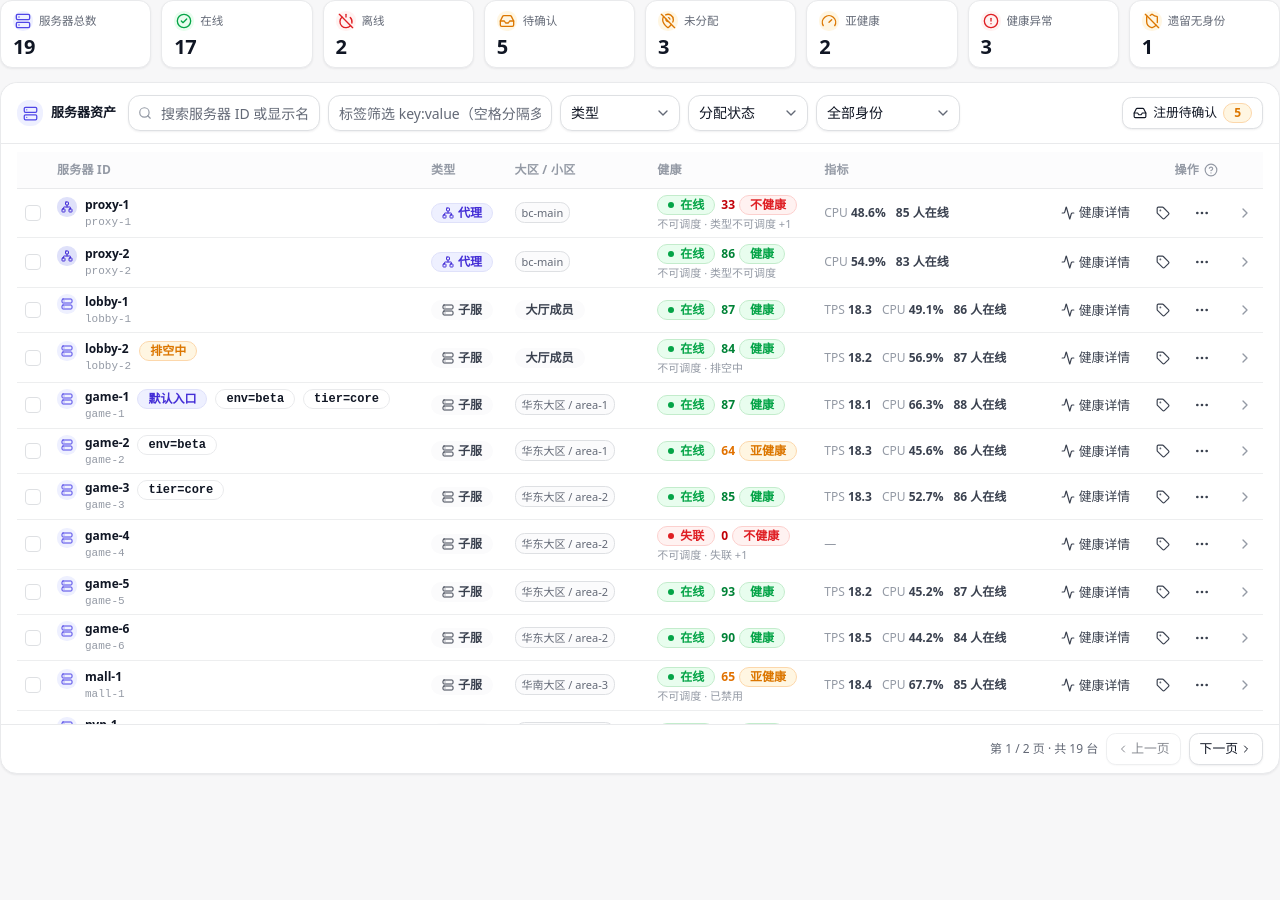
Scenario: /servers 服务器页 › 行操作切换默认入口：取消后该行徽标消失（FR-48/ADR-0067 写闭环）
This screenshot has width=1280, height=900.
Check: the text "默认入口" is shown, box x1=138 y1=389 x2=208 y2=409
# 打开行内操作菜单再点「取消默认入口」
Click the button named "更多操作" in the row of "默认入口" at (1202, 406), box x1=1185 y1=390 x2=1219 y2=422
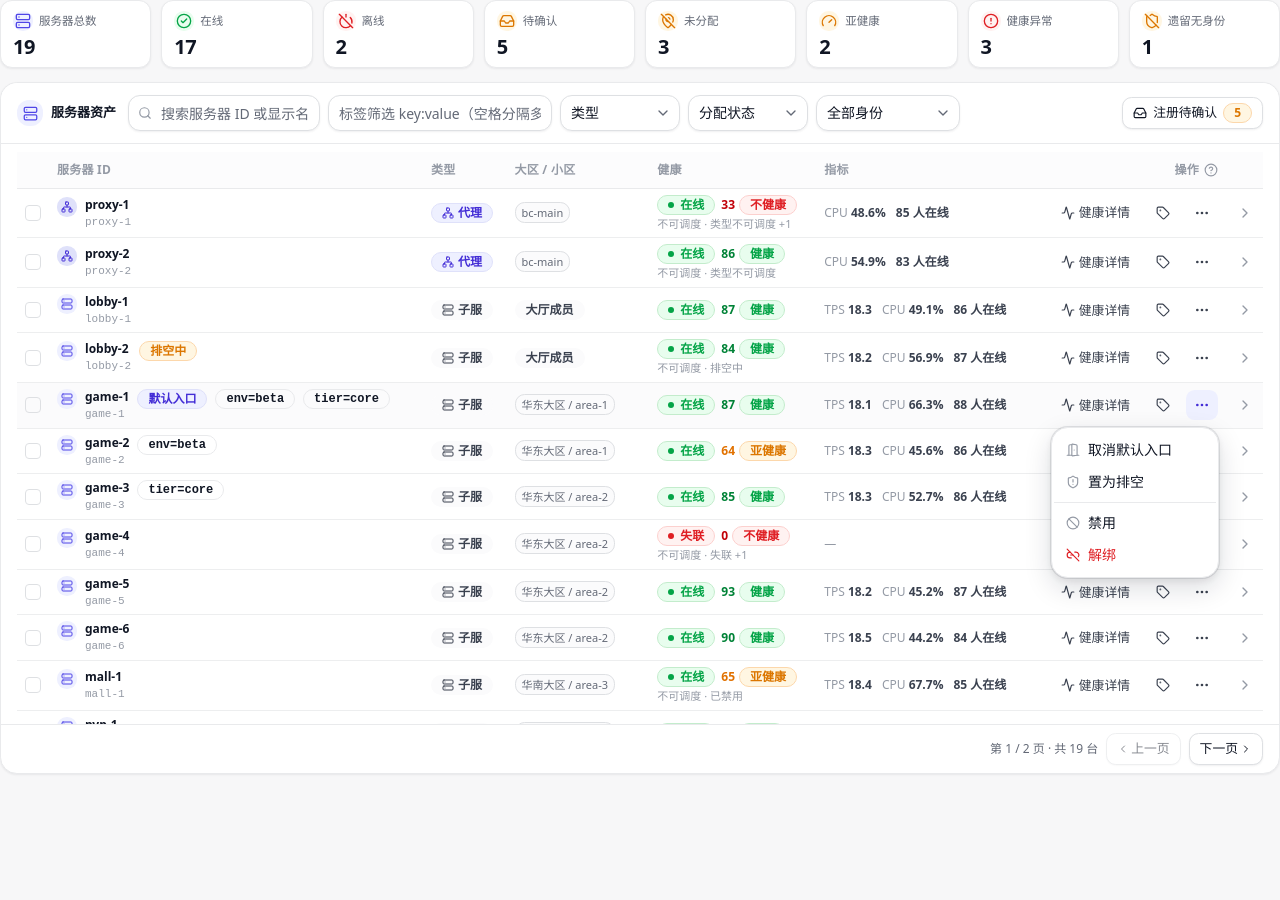
Click the menu item "取消默认入口" at (1119, 450), box x1=1066 y1=440 x2=1172 y2=459
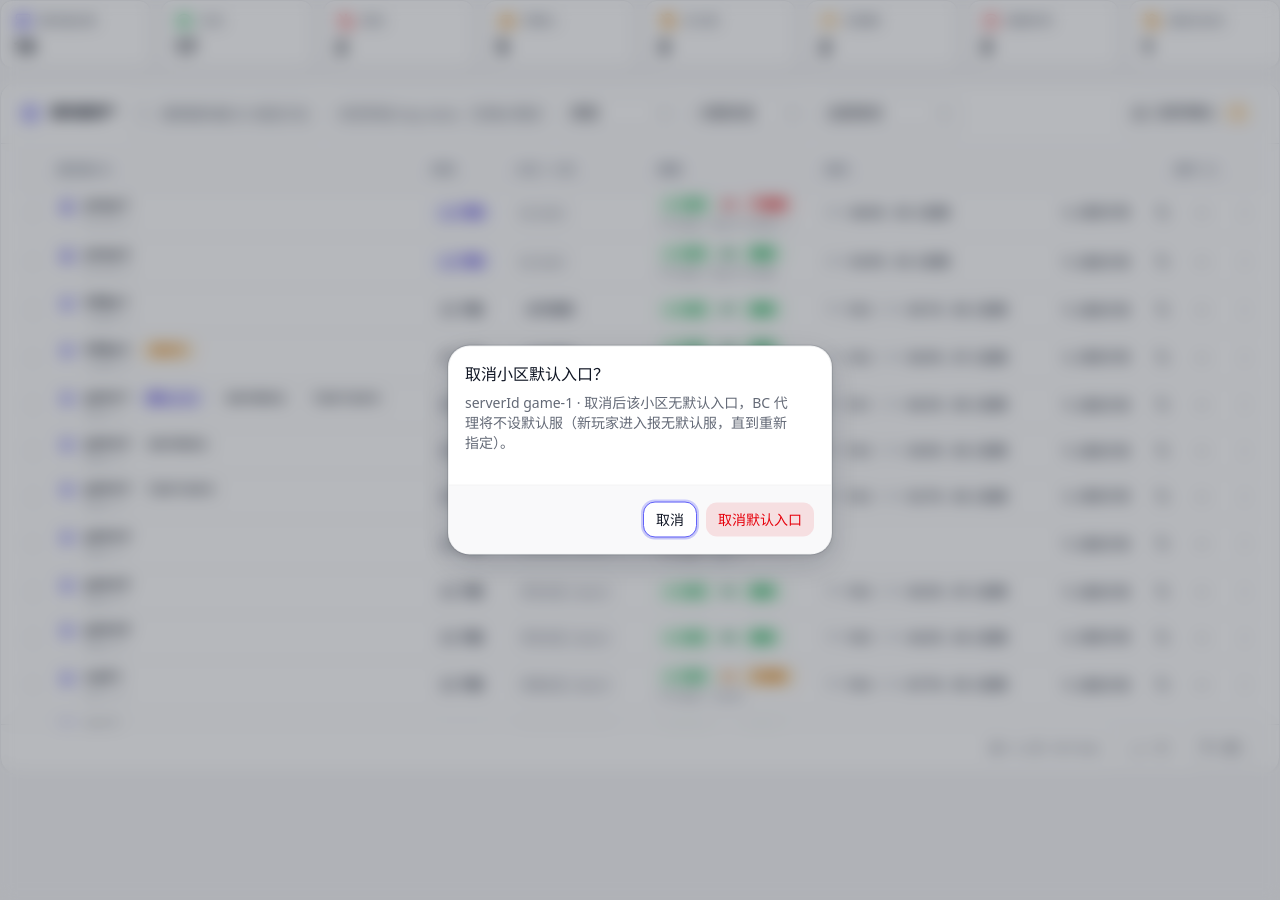
# 无原因确认框：确认后徽标消失、菜单项翻转
Click the button "取消默认入口" at (760, 520), box x1=705 y1=502 x2=815 y2=538
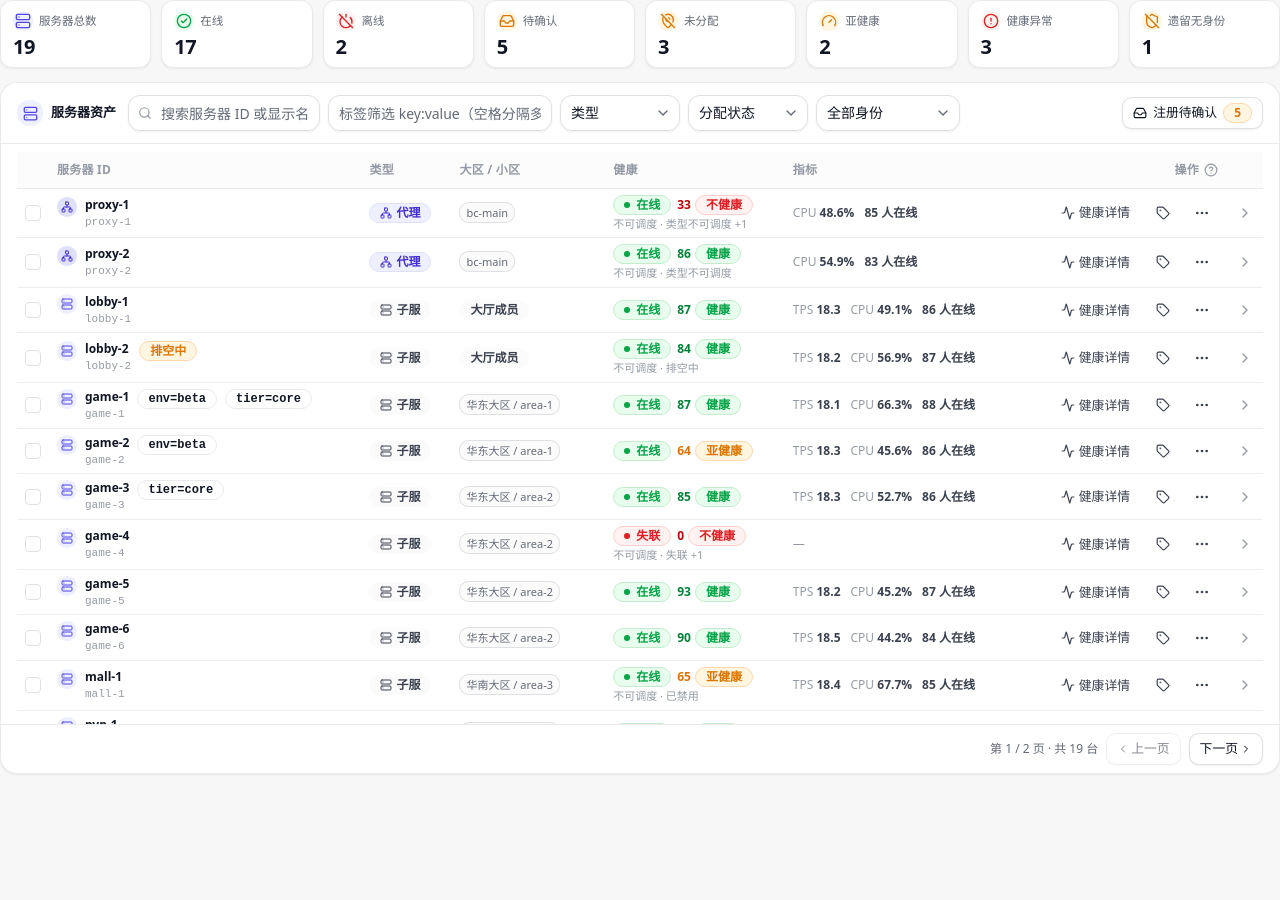
Check: the text "game-1" is shown, box x1=85 y1=388 x2=130 y2=405
Check: the text "默认入口" is gone
Click the button named "更多操作" in the row of "18.1" at (1202, 406), box x1=1185 y1=390 x2=1219 y2=422
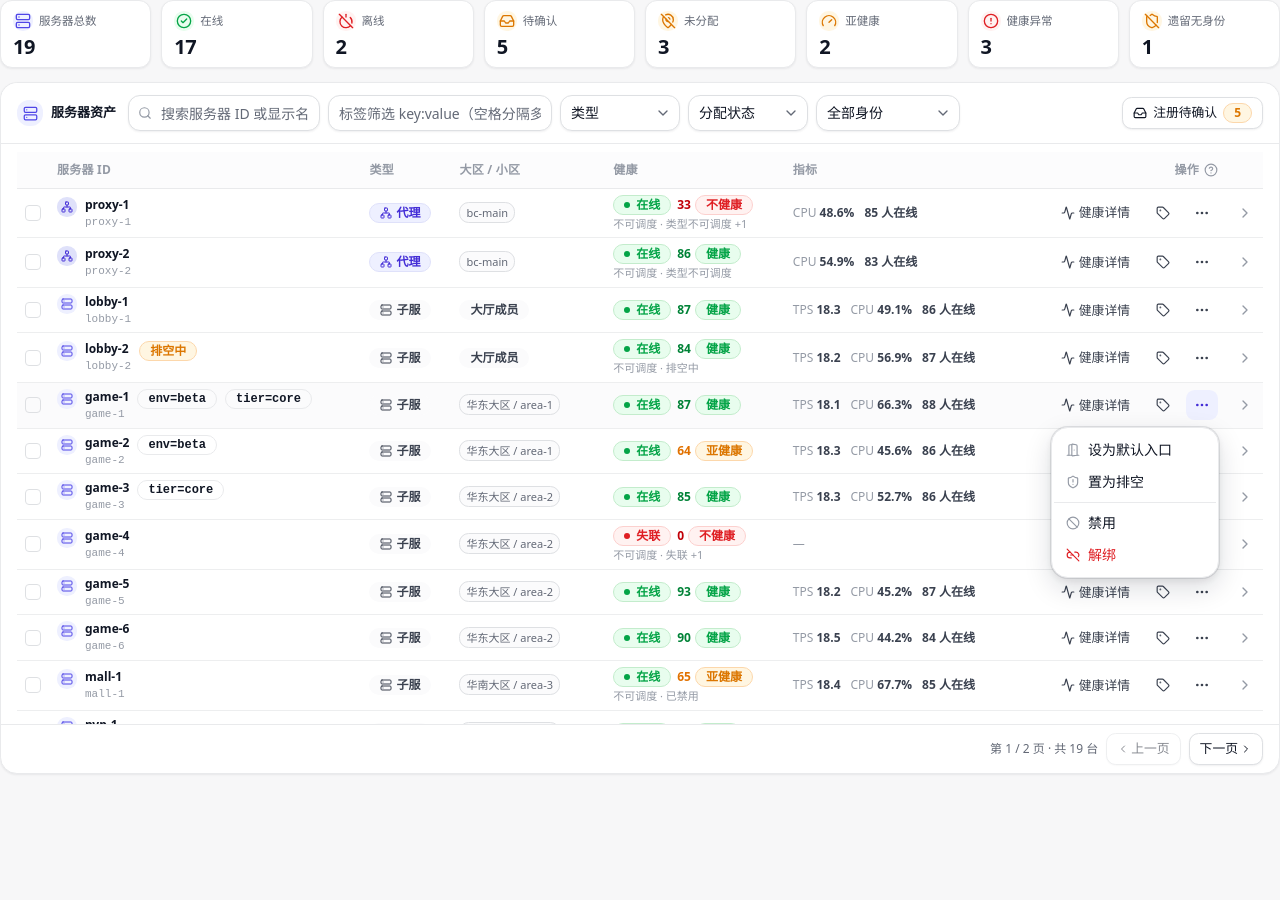
Check: the menu item "设为默认入口" is shown, box x1=1066 y1=440 x2=1172 y2=459
